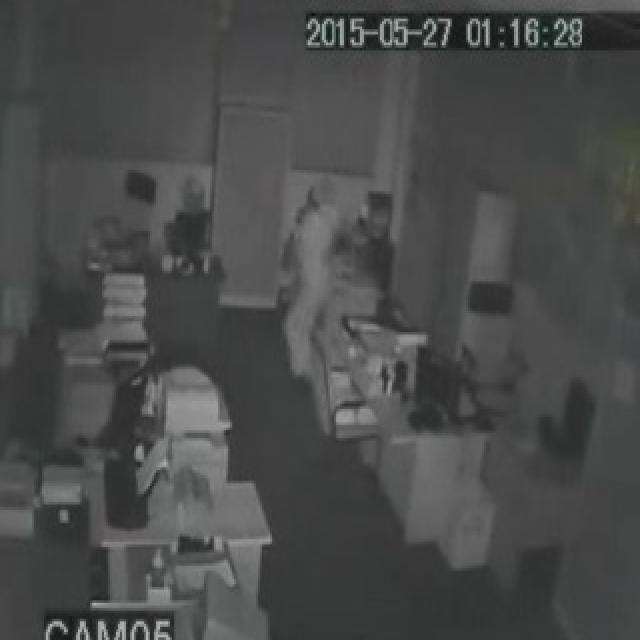thief: (276, 174, 345, 334)
